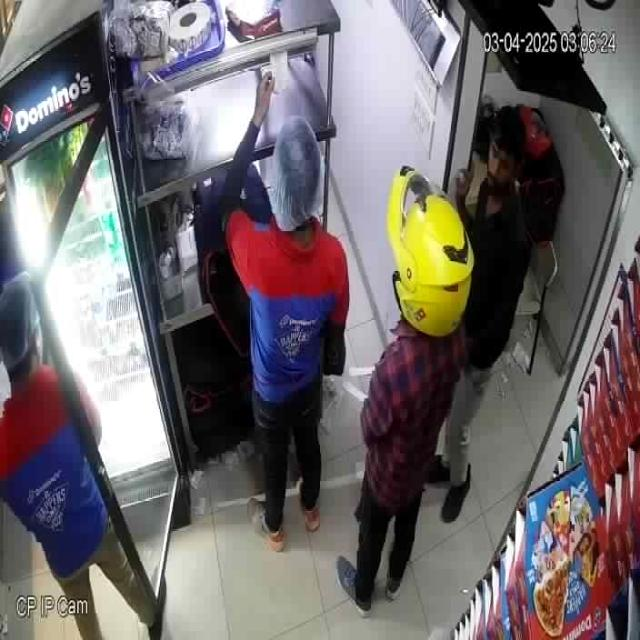helmet: (384, 167, 474, 334)
no_helmet: (274, 114, 323, 231), (486, 106, 526, 199)
